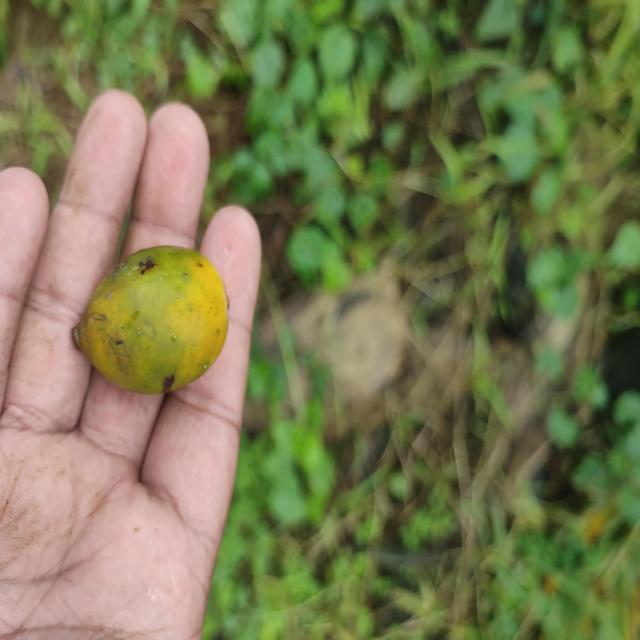damaged: (71, 246, 230, 396)
